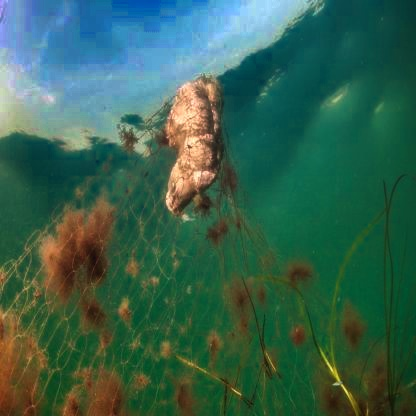net: (3, 189, 296, 416)
